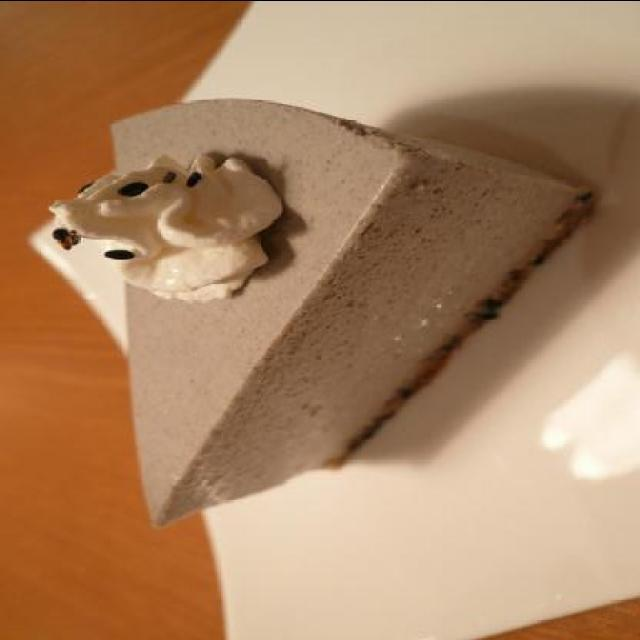Rare cheese cake: (58, 72, 600, 540)
